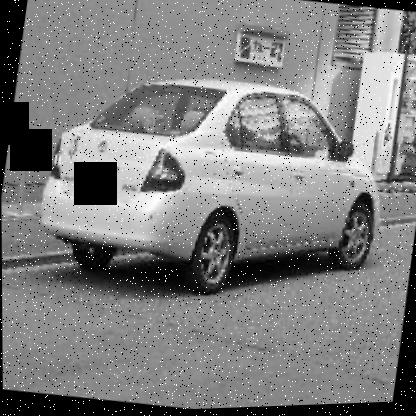not_emergency: (11, 35, 407, 341)
